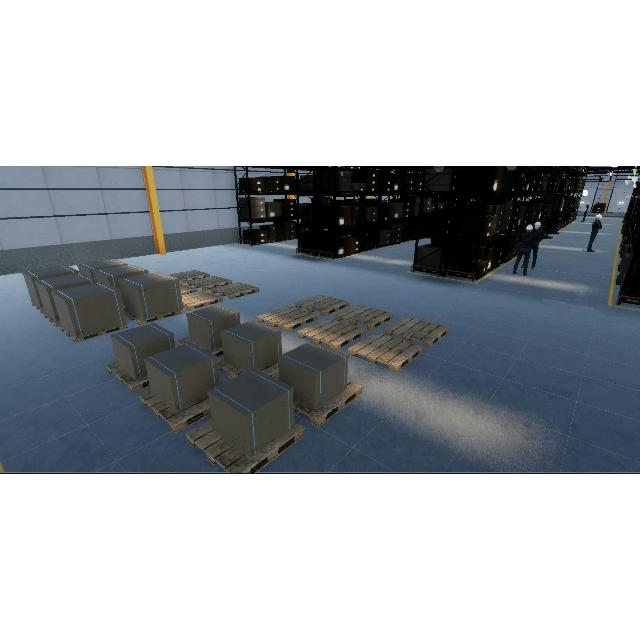wooden_pallet: (187, 416, 305, 474), (293, 380, 363, 427), (140, 389, 211, 434), (347, 333, 424, 373), (297, 318, 366, 352), (383, 316, 452, 349), (335, 303, 394, 330), (256, 305, 317, 331), (294, 294, 350, 318), (106, 361, 148, 393), (59, 324, 125, 342), (211, 282, 259, 300), (181, 290, 223, 309), (128, 311, 180, 326), (187, 274, 231, 291), (169, 270, 210, 285), (180, 282, 197, 295)
